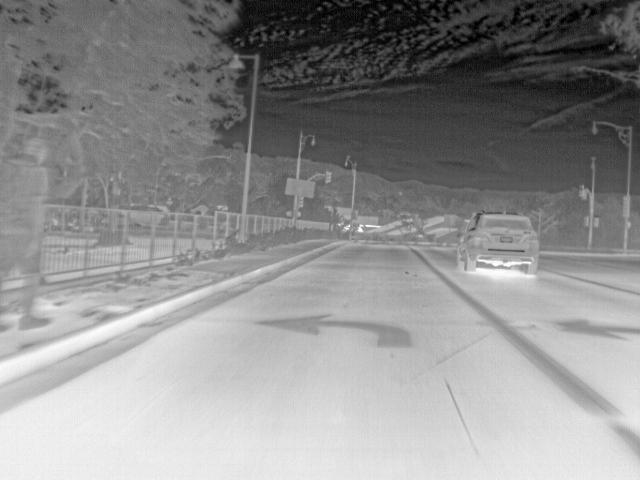car: (457, 210, 541, 276)
person: (1, 134, 54, 331)
